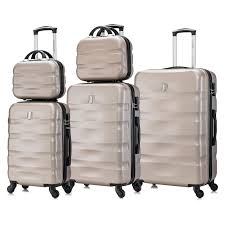suitcase: (133, 27, 217, 197), (65, 24, 138, 196), (5, 26, 69, 197)
